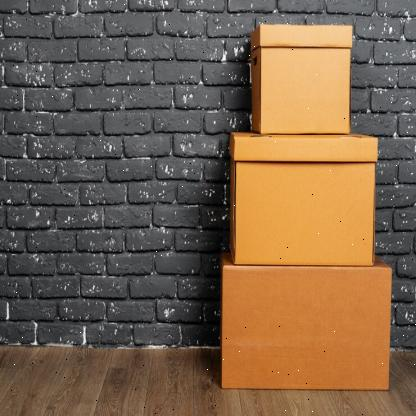box: (220, 266, 391, 390), (232, 135, 377, 265), (259, 24, 353, 134)
